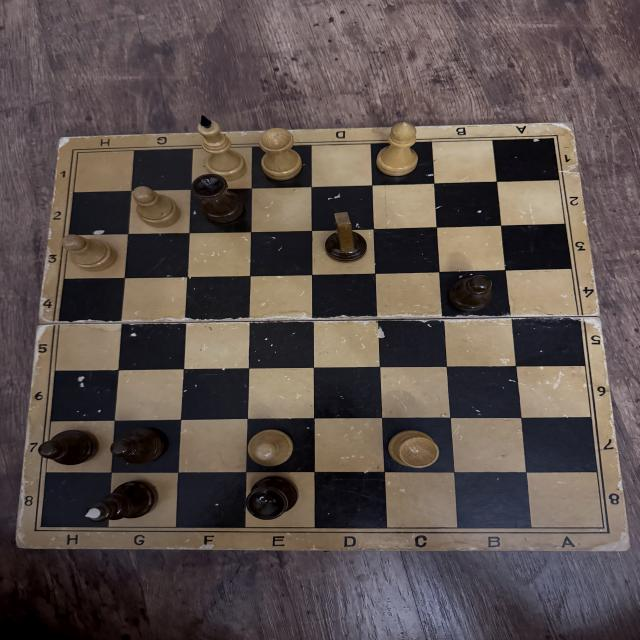black-king: (78, 482, 157, 520)
black-knight: (324, 212, 368, 264)
black-pawn: (37, 429, 100, 466), (110, 428, 167, 466), (446, 274, 497, 312)
black-rook: (189, 176, 245, 223), (244, 474, 301, 520)
white-bishop: (374, 121, 423, 178)
white-king: (193, 115, 248, 180)
white-pawn: (130, 187, 180, 229), (62, 233, 117, 271), (245, 430, 294, 466)
white-rook: (258, 128, 306, 182), (388, 428, 442, 469)
